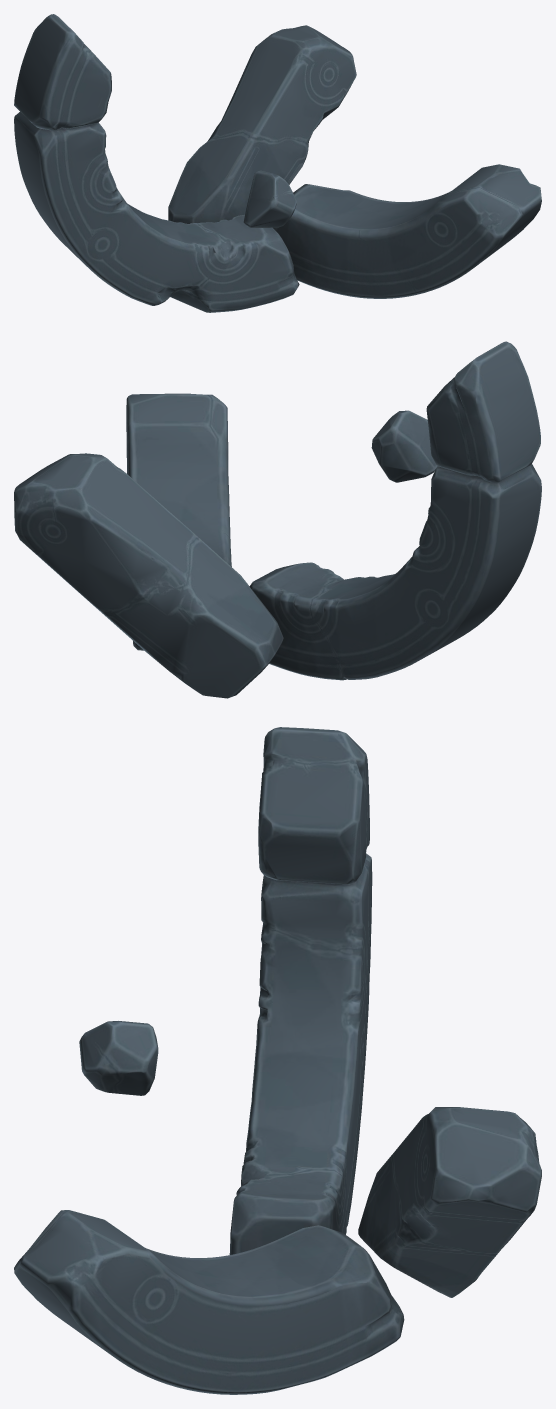
Rendered from caos_stl_rubble_01c_soma_v36.glb.
3 renders of one model, top to bottom at view 1: azimuth 30°, elevation 25°; view 2: azimuth 150°, elevation 25°; view 3: azimuth 270°, elevation 25°, orthographic. The views are drawn at different scales.
Visible parts, largest first — view 1: caos_stl_rubble_01c; view 2: caos_stl_rubble_01c; view 3: caos_stl_rubble_01c.
Part boxes in pixels (bbox=[...]): caos_stl_rubble_01c: bbox=[14, 14, 541, 312]; caos_stl_rubble_01c: bbox=[14, 341, 541, 698]; caos_stl_rubble_01c: bbox=[14, 727, 541, 1394].
Size of the model in its own units: 10.71 by 7.53 by 8.11.
1 material, 1 textured.
